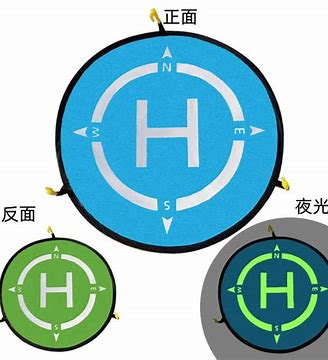H: (135, 99, 199, 168), (40, 273, 74, 309), (261, 273, 294, 308)
